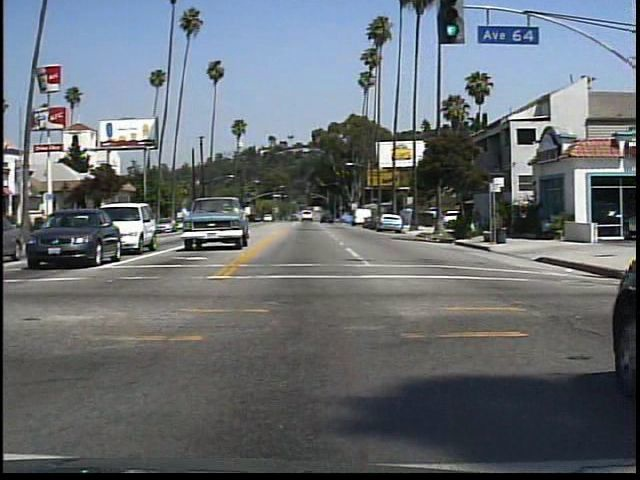person: (460, 199, 482, 242)
